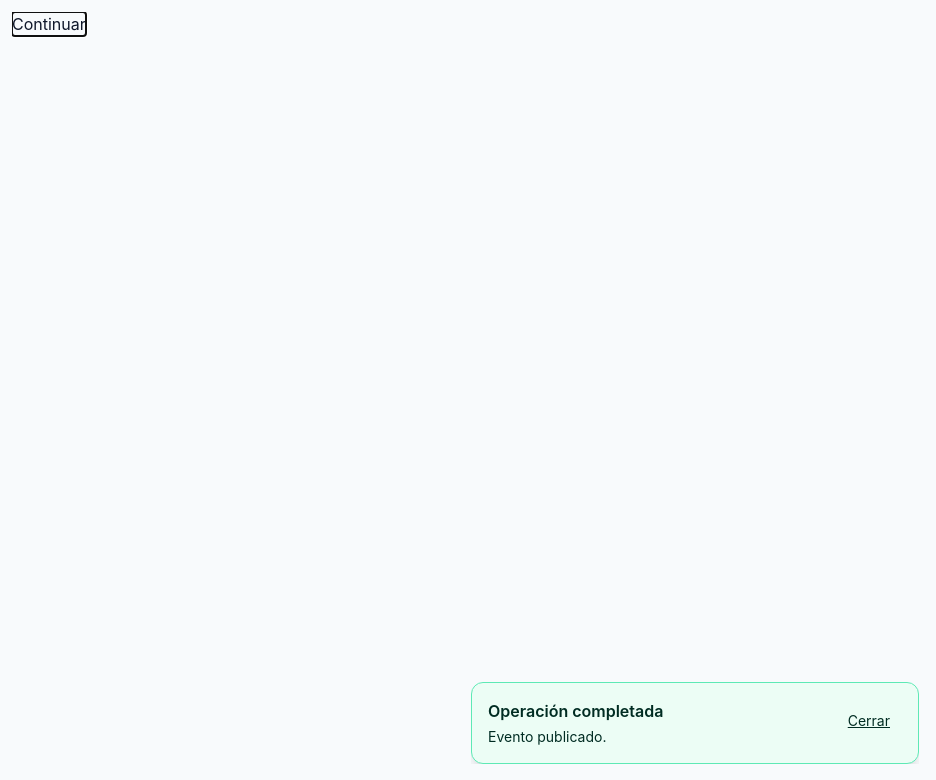
Test: Avisos › anuncia el resultado con polite, permite cerrarlo y no mueve el foco
Click the button with aria-label "Cerrar aviso: Evento publicado.".
click(869, 721)  # box [836,699,902,743]
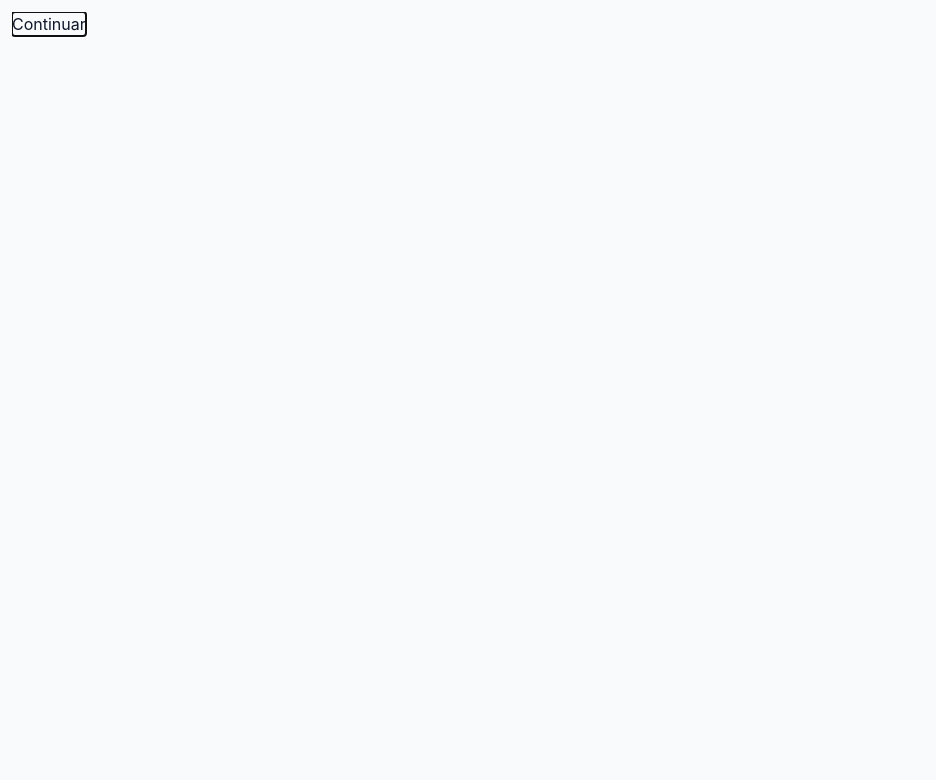
Check: the text "Evento publicado." is gone
